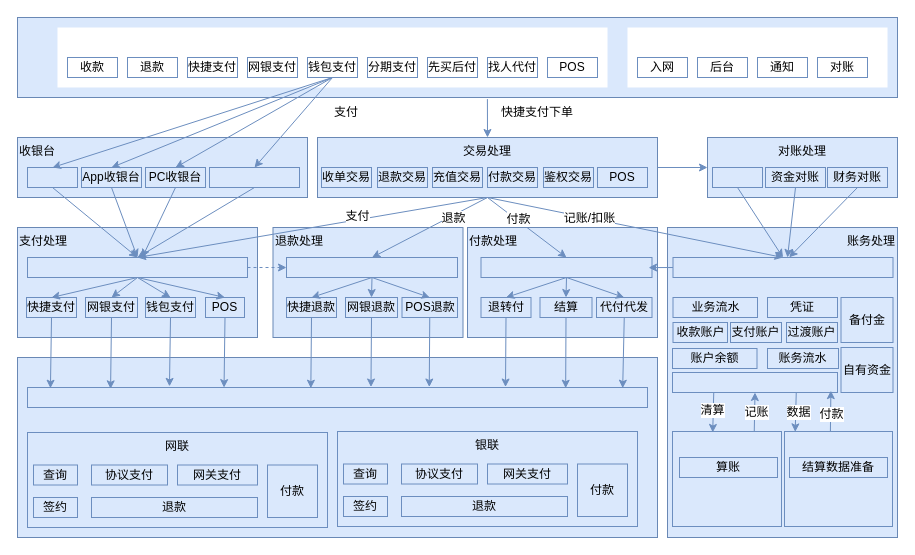
Some shapes in this 915 by 555 pixel diagram are drawn without their labels. The box of each missing label's shape, as (x1, y1, x2, y2) in pixels:
H5收银台: (26, 166, 78, 188)
交易对账: (712, 166, 762, 188)
付款处理引擎: (480, 256, 652, 278)
商户服务: (627, 27, 887, 87)
开放平台: (57, 27, 607, 87)
接入: (16, 16, 898, 98)
支付处理引擎: (26, 256, 248, 278)
智能终端收银台: (208, 166, 300, 188)
清算 结算 出款: (672, 372, 838, 392)
清算处理: (672, 430, 782, 526)
渠道清算: (16, 356, 658, 538)
结算处理: (784, 430, 892, 526)
账务处理引擎: (672, 256, 893, 278)
资金清算渠道: (26, 386, 648, 408)
退款处理引擎: (286, 256, 458, 278)
